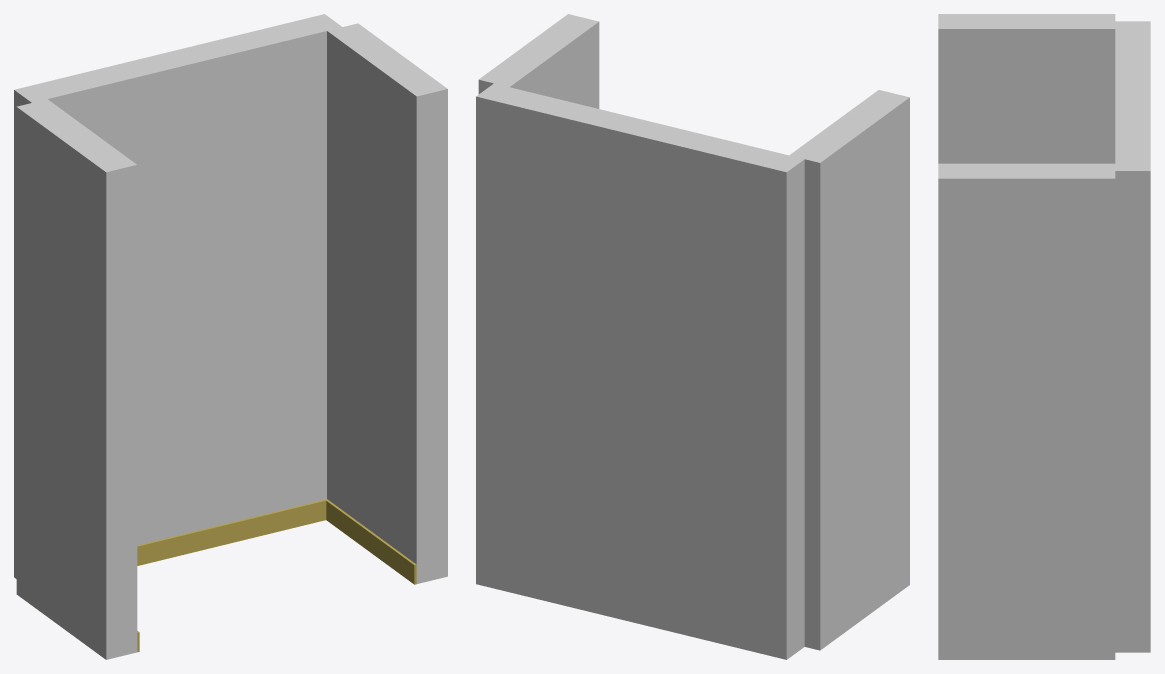
Rendered from MOD_31_Niche_DeadEnd.fbx.
The picture shows the model from 3 angles, left to right: view 1: azimuth 30°, elevation 25°; view 2: azimuth 150°, elevation 25°; view 3: azimuth 270°, elevation 25°; orthographic projection.
Visible parts, largest first — view 1: MOD_31_Niche_DeadEnd; view 2: MOD_31_Niche_DeadEnd; view 3: MOD_31_Niche_DeadEnd.
Part boxes in pixels (x1,y1,x2,y2): MOD_31_Niche_DeadEnd: (14,14,447,659); MOD_31_Niche_DeadEnd: (476,14,909,659); MOD_31_Niche_DeadEnd: (938,14,1150,659).
Bounding box in the file's own units: 2.2 × 3 × 1.2.
